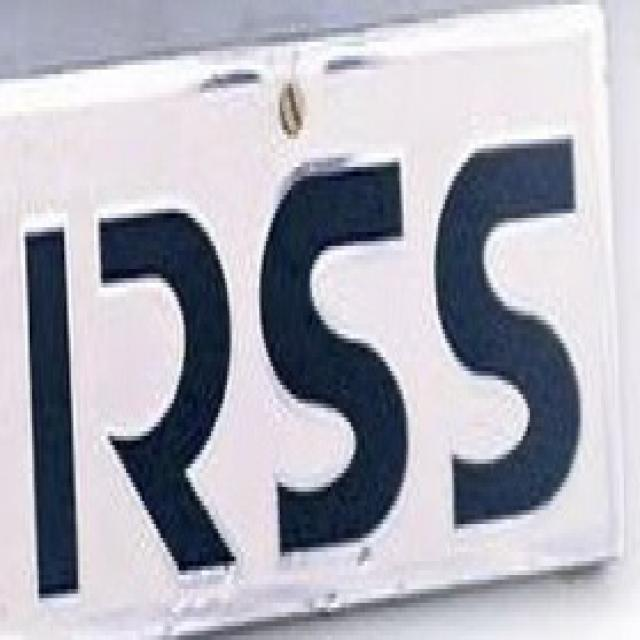R: (16, 166, 244, 620)
S: (250, 124, 422, 568), (430, 121, 600, 556)
